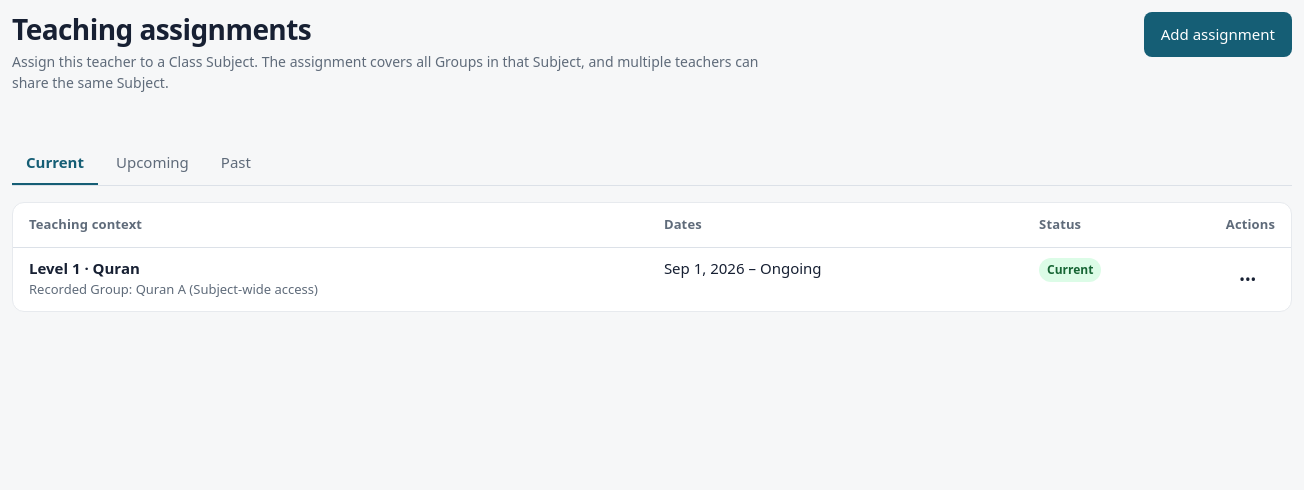
Test: teaching assignment workspace reference CRUD flow › offers Edit dates, End assignment, and Delete assignment in the row menu
Click the button "•••" at (1248, 279), box [1226,257,1270,301]
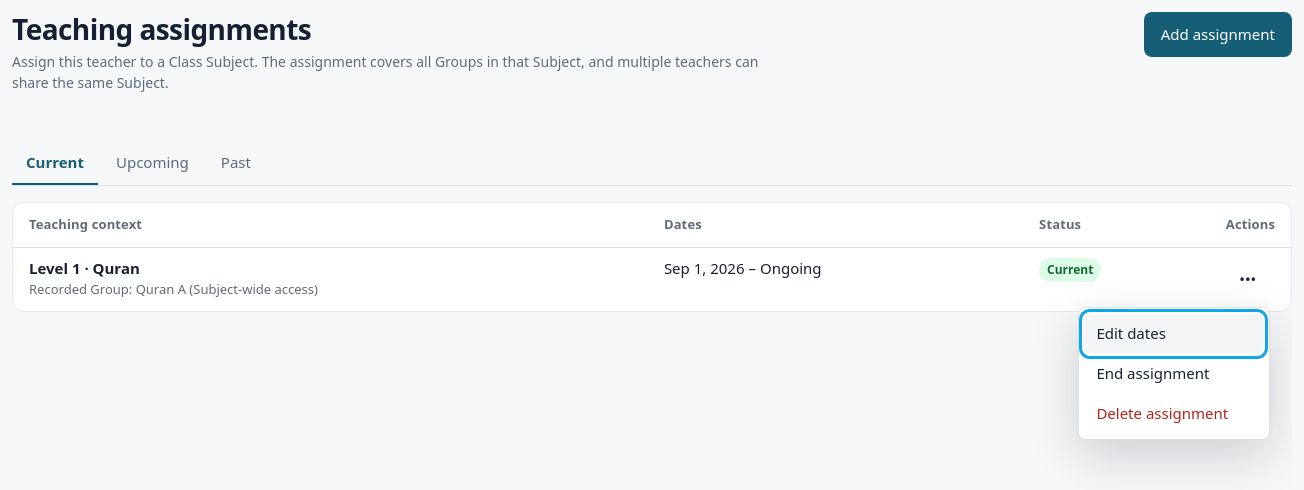
Expected: the menu item "Edit dates" is shown, [1084,314,1263,354]
Expected: the menu item "End assignment" is shown, [1084,354,1263,394]
Expected: the menu item "Delete assignment" is shown, [1084,394,1263,434]
